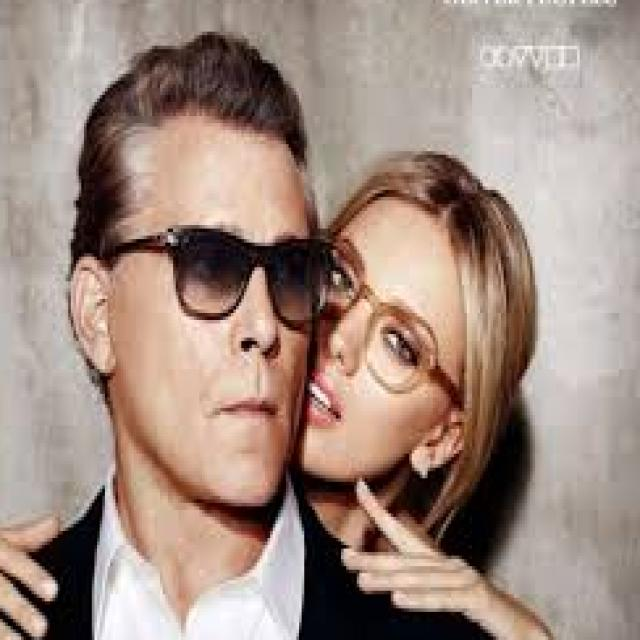Glasses: (333, 229, 472, 422), (100, 218, 330, 334)
